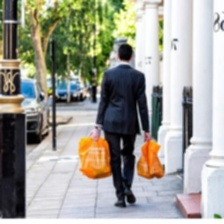plastic_bag: (73, 119, 112, 186), (130, 125, 171, 184)
